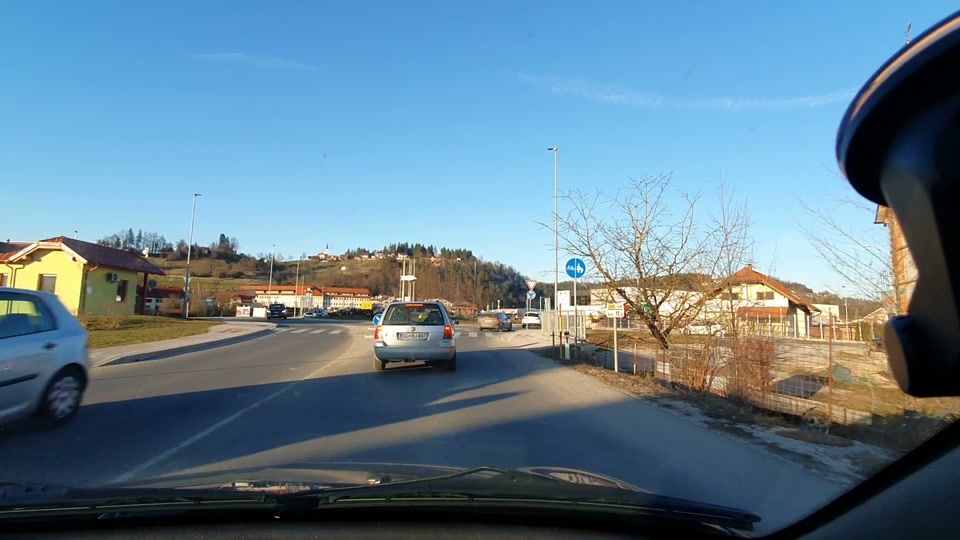vehicle_ign: (0, 272, 98, 420), (368, 296, 472, 380)
